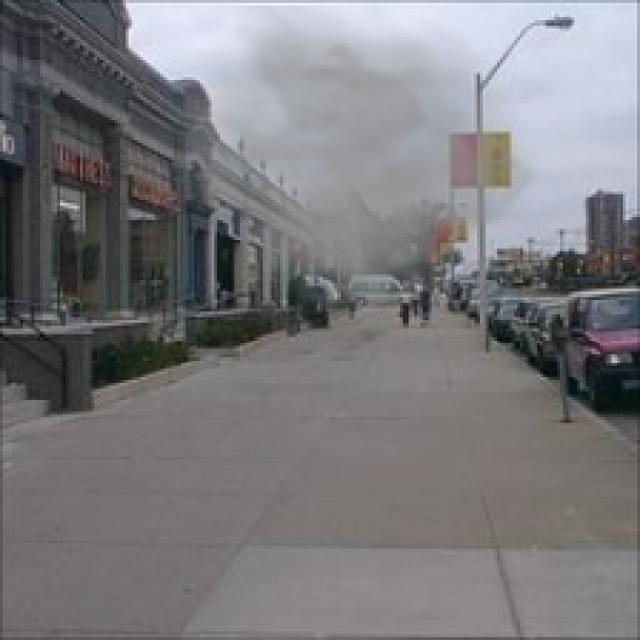smoke: (155, 6, 554, 351)
